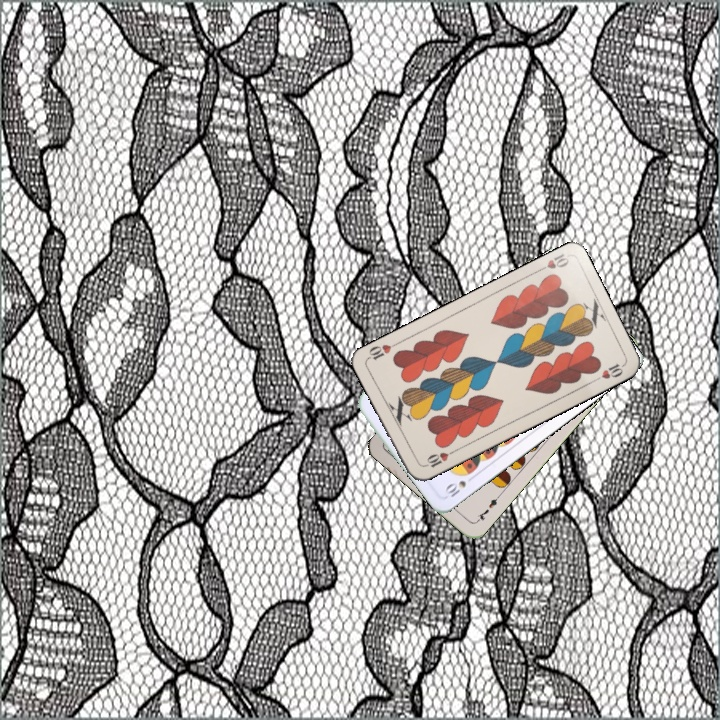E7: (473, 491, 503, 525)
H10: (532, 249, 571, 275), (419, 446, 457, 470)
S10: (441, 471, 478, 501)
